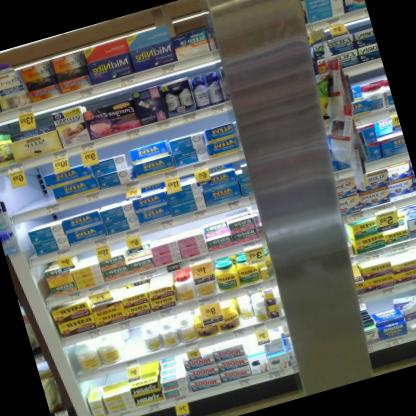empty_space: (8, 173, 51, 216), (119, 326, 147, 361)
